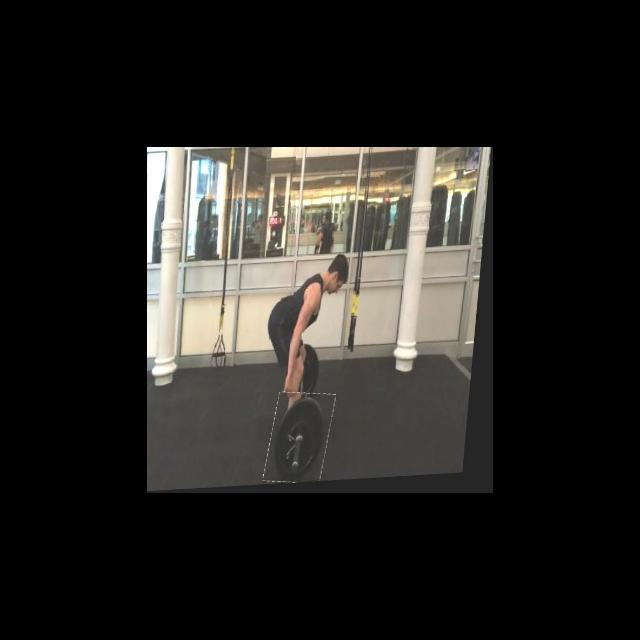barbell: (271, 392, 339, 486)
